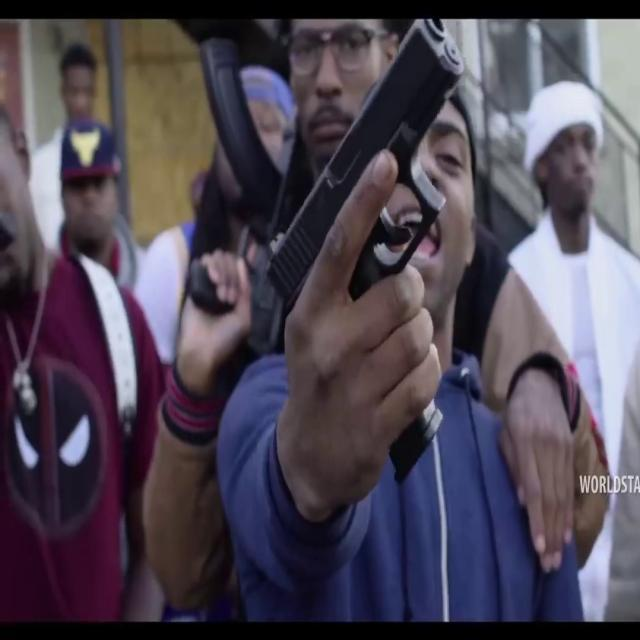Handgun: (267, 31, 464, 481)
